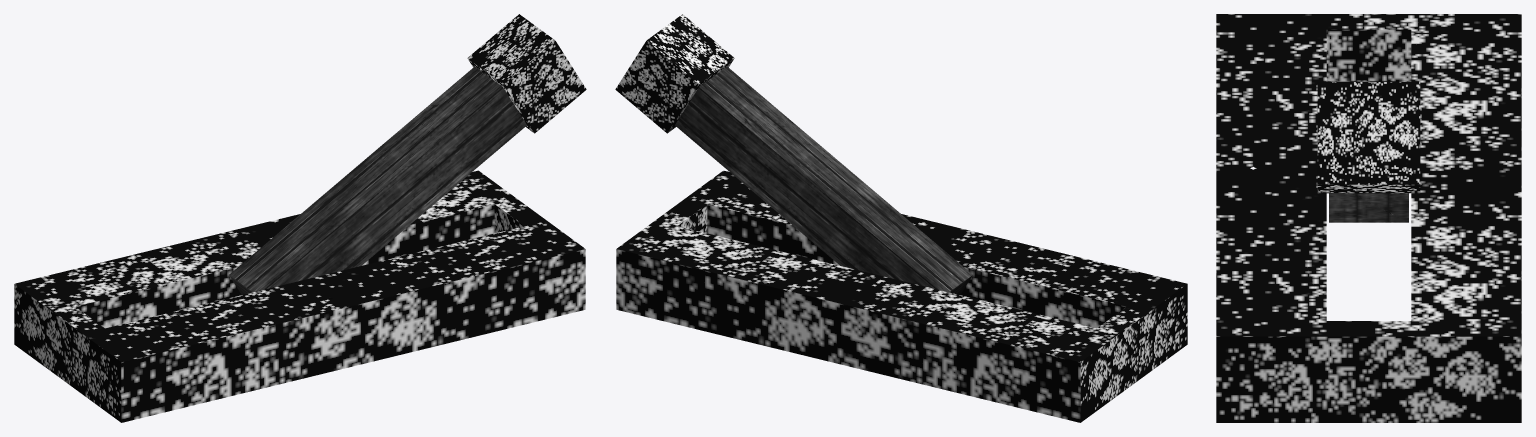
File: Alavanca.fbx
The picture shows the model from 3 angles, left to right: view 1: azimuth 30°, elevation 25°; view 2: azimuth 150°, elevation 25°; view 3: azimuth 270°, elevation 25°; orthographic projection. The views are drawn at different scales.
Parts seen in each view (by area): view 1: Base, Alavanca; view 2: Base, Alavanca; view 3: Base, Alavanca.
Part boxes in pixels (x1,y1,x2,y2): Base: (14, 170, 585, 422); Alavanca: (229, 14, 586, 294); Base: (616, 170, 1187, 422); Alavanca: (615, 14, 972, 294); Base: (1216, 14, 1521, 422); Alavanca: (1317, 82, 1420, 222).
Size of the model in its own units: 216 by 99.61 by 80.
